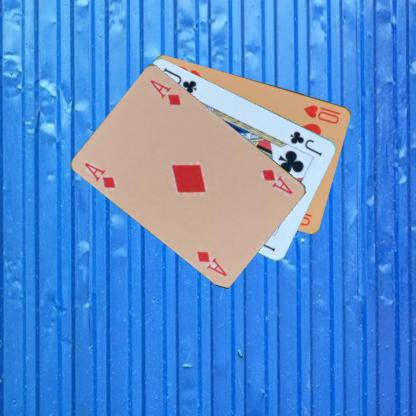10h: (302, 102, 342, 125)
Ad: (258, 166, 294, 196), (82, 160, 117, 190)
Jc: (287, 128, 324, 158)
